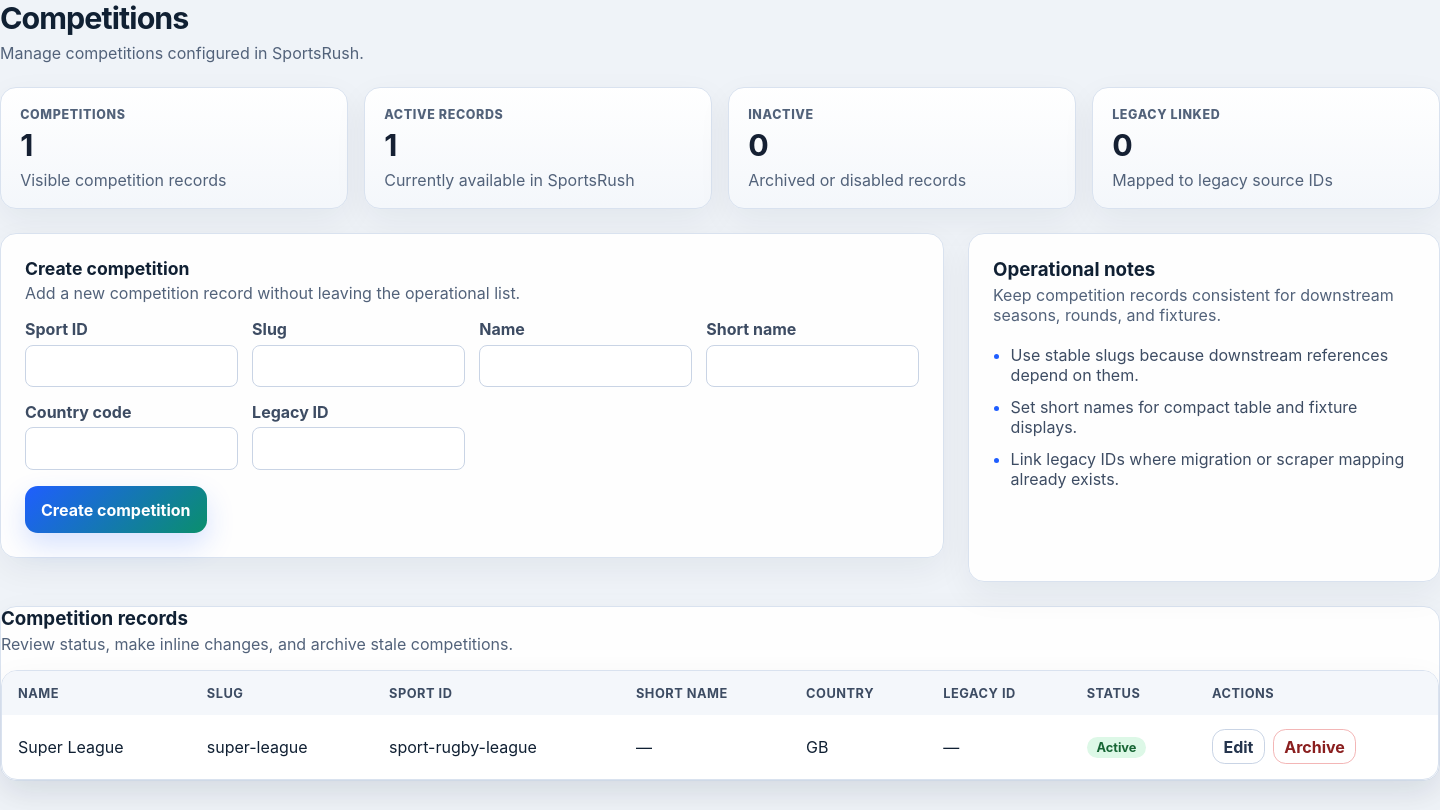
CompetitionsPage › archives a competition after confirmation
expect the cell "Super League" is shown: met, box [2, 715, 191, 779]
Click the button "Archive". click: (1314, 747)
box: [1273, 730, 1356, 764]
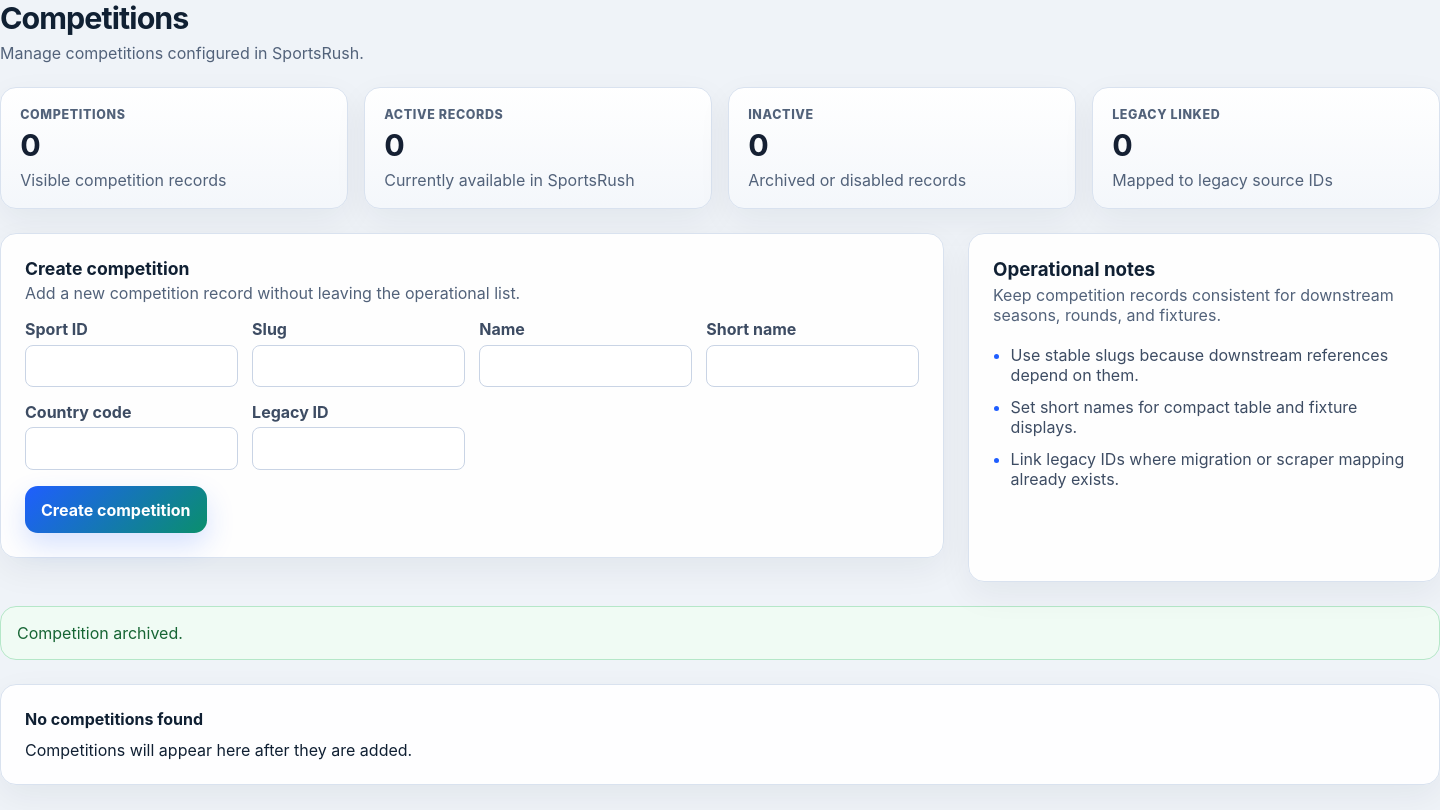
expect the text "Competition archived." is shown: met, box [0, 606, 1439, 660]
expect the text "No competitions found" is shown: met, box [25, 709, 203, 729]
